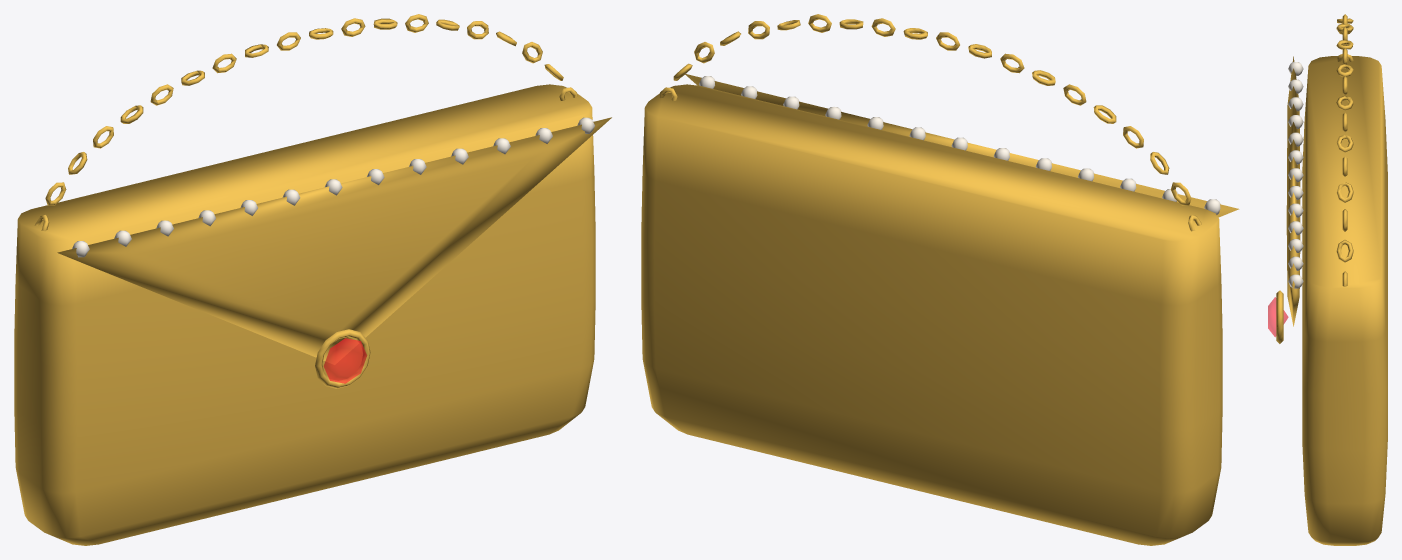
The model's file is clutch_bag.glb.
3 views of the same model, side by side, from view 1: azimuth 30°, elevation 25°; view 2: azimuth 150°, elevation 25°; view 3: azimuth 270°, elevation 25° (orthographic). The views are drawn at different scales.
Visible parts, largest first — view 1: clutch_bag; view 2: clutch_bag; view 3: clutch_bag.
Part boxes in pixels (bbox=[...]): clutch_bag: bbox=[14, 14, 611, 545]; clutch_bag: bbox=[641, 14, 1239, 545]; clutch_bag: bbox=[1268, 14, 1387, 545].
Bounding box in the file's own units: 0.242 × 0.186 × 0.0524.
